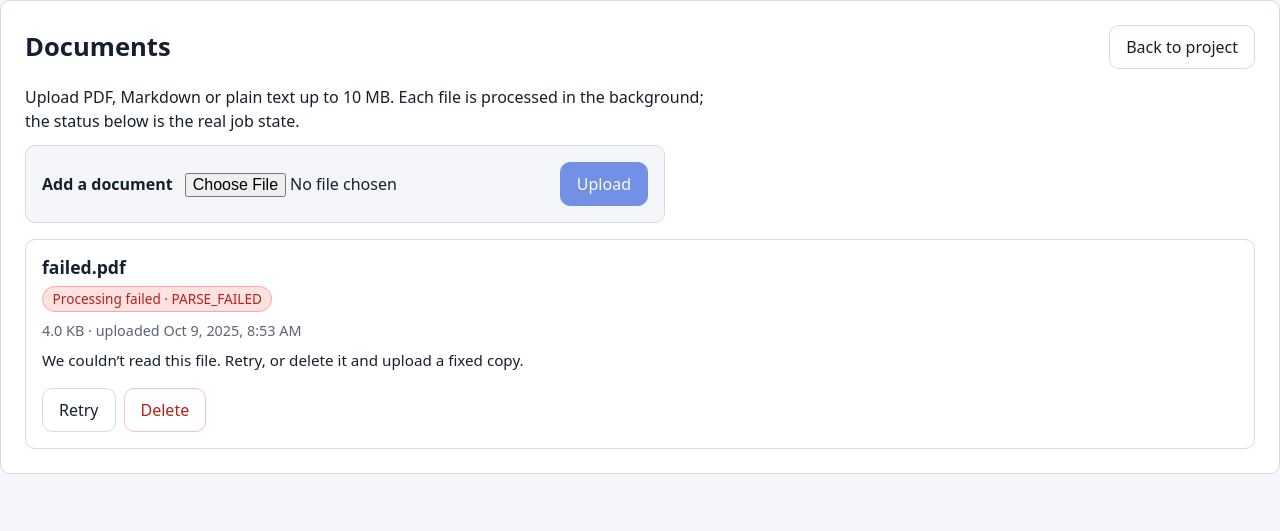
Test: a failed retry stays on screen with an announced, actionable error
expect the heading "failed.pdf" is shown: met, box x1=42 y1=255 x2=126 y2=279
Click the button with aria-label "Retry failed.pdf": (79, 410) x1=42 y1=388 x2=116 y2=432
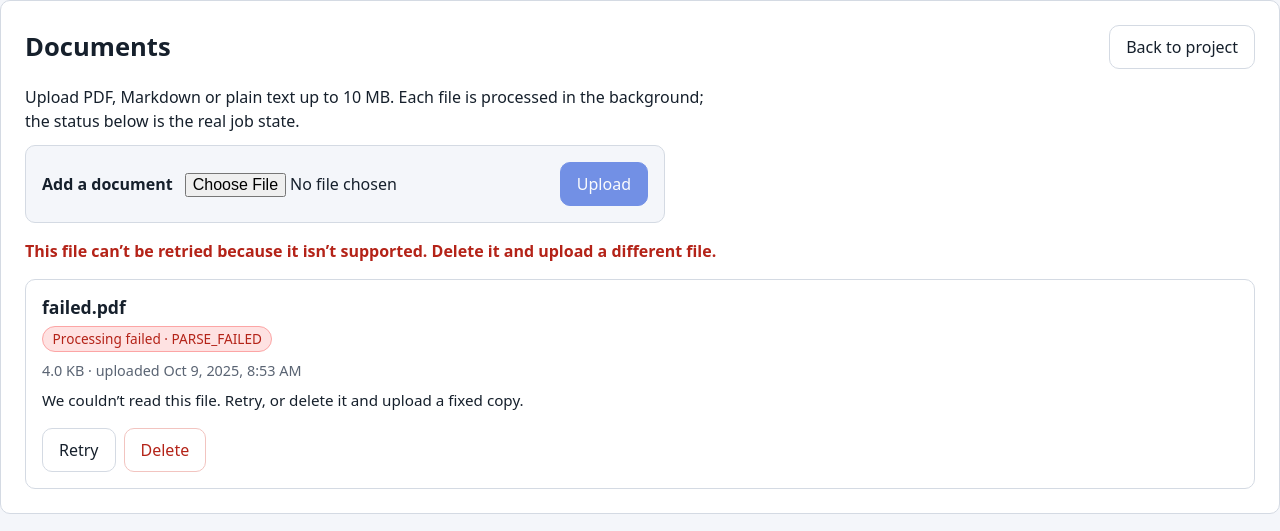
expect the heading "failed.pdf" is shown: met, box x1=42 y1=295 x2=126 y2=319
expect the 1st message shows "Delete it and upload a different file": met, box x1=25 y1=240 x2=716 y2=262
